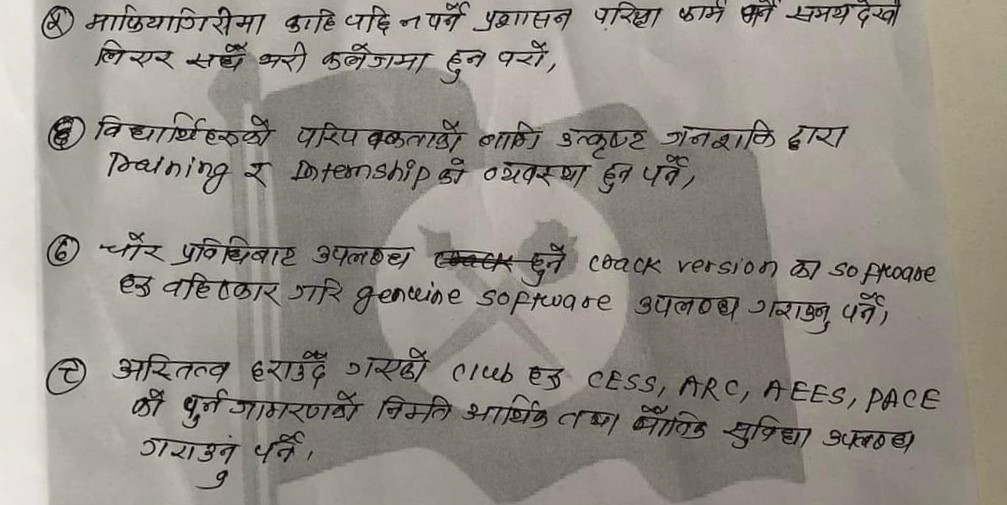text: (179, 384, 363, 430), (92, 109, 277, 152), (295, 116, 468, 155), (84, 2, 268, 37), (136, 431, 240, 492), (170, 233, 301, 272), (159, 272, 281, 311), (108, 350, 227, 389), (660, 117, 778, 153), (595, 152, 689, 197), (319, 41, 432, 78), (746, 293, 835, 337), (721, 413, 814, 455), (629, 401, 712, 447), (247, 348, 330, 392), (782, 3, 912, 30), (552, 125, 652, 160), (632, 291, 741, 323), (342, 345, 431, 384), (479, 159, 589, 190), (460, 394, 552, 431), (819, 424, 922, 457), (309, 239, 414, 271), (92, 37, 178, 73), (374, 391, 453, 430), (476, 6, 575, 37), (395, 1, 473, 34), (475, 118, 543, 153), (98, 231, 165, 266), (590, 2, 664, 33), (251, 428, 308, 467), (182, 42, 253, 73), (254, 39, 311, 77), (782, 123, 853, 153), (524, 242, 569, 289), (553, 407, 621, 437), (343, 2, 395, 39), (838, 290, 887, 329), (287, 277, 348, 308), (440, 47, 488, 86), (282, 7, 341, 37), (127, 384, 169, 422), (497, 38, 548, 69), (525, 359, 567, 396), (238, 157, 279, 193), (735, 1, 784, 29), (114, 270, 158, 300), (677, 1, 730, 25), (786, 256, 825, 283)
